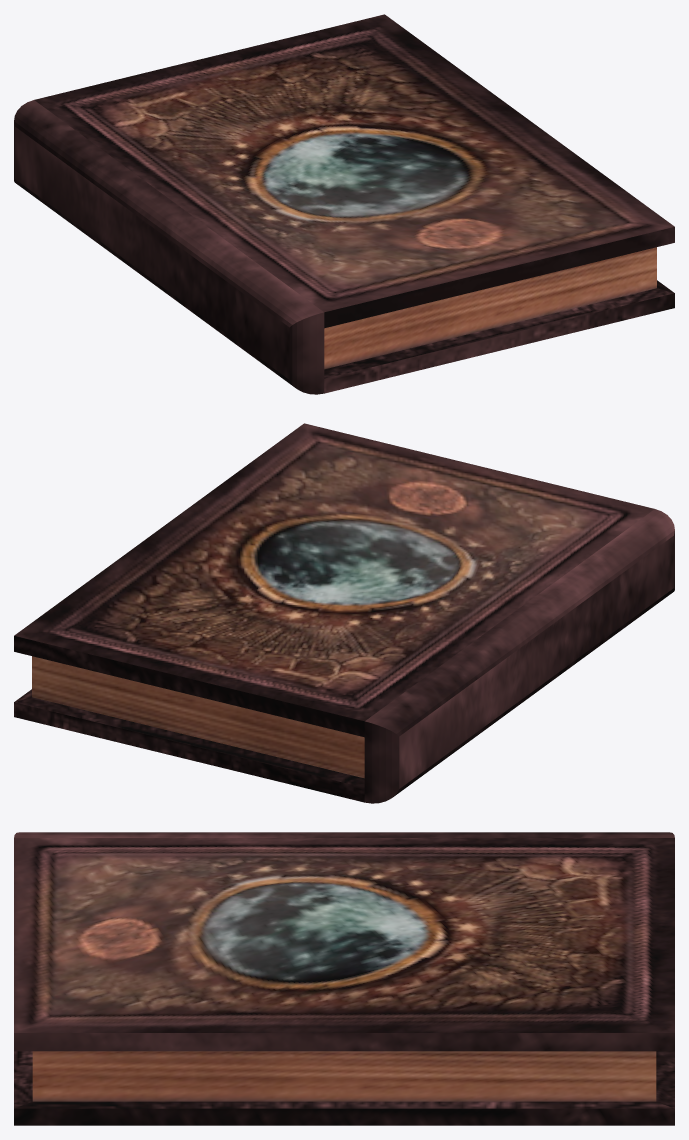
The model's file is task-item_book.fbx.
The picture shows the model from 3 angles, top to bottom: view 1: azimuth 30°, elevation 25°; view 2: azimuth 150°, elevation 25°; view 3: azimuth 270°, elevation 25°; orthographic projection. The views are drawn at different scales.
Parts seen in each view (by area): view 1: Cube; view 2: Cube; view 3: Cube.
Part boxes in pixels (left/top/right/bottom): Cube: left=14, top=14, right=674, bottom=394; Cube: left=14, top=423, right=674, bottom=803; Cube: left=14, top=832, right=674, bottom=1125.
Bounding box in the file's own units: 150 × 30.9 × 200.
